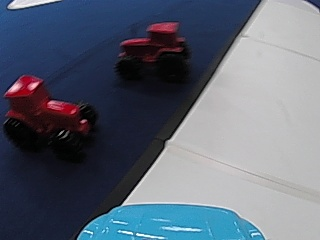tractor: (0, 68, 97, 156), (115, 19, 191, 85)
